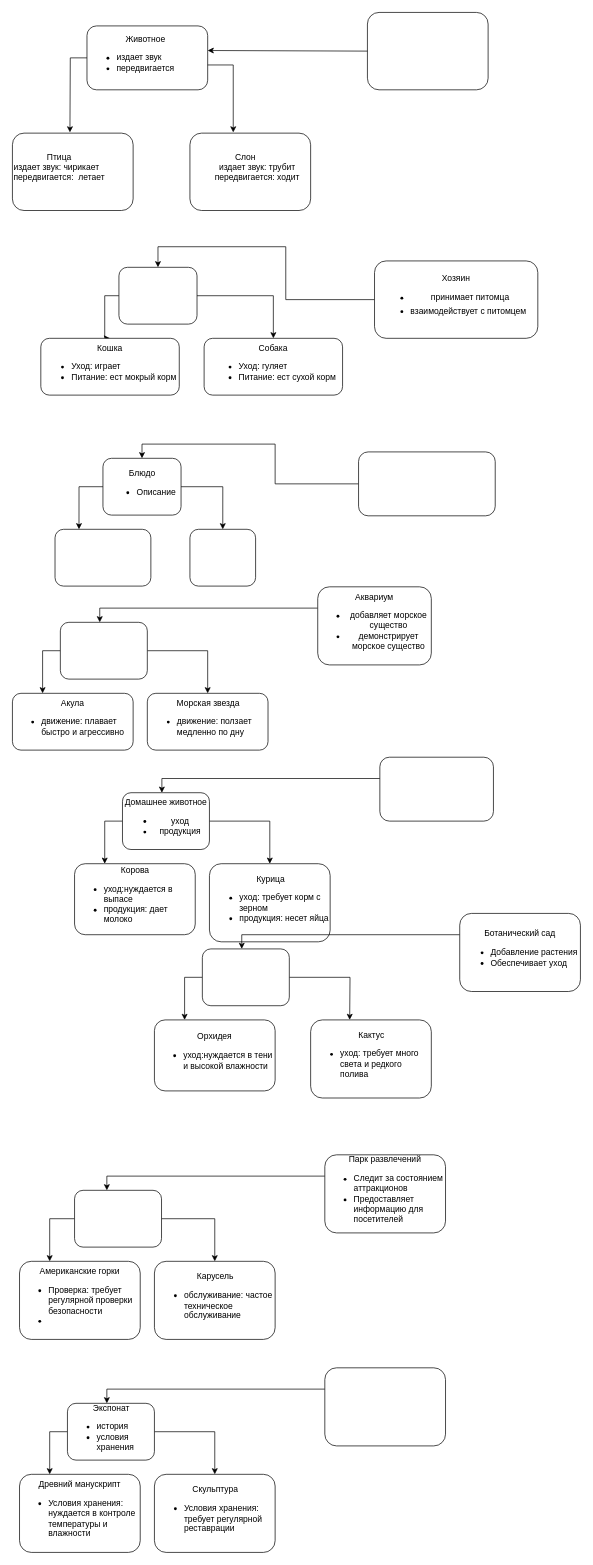
Image size: 593x1565. Some labels were removed from this diagram. Here are the shapes that lost their labels. From the top down, the centre of each, then its label:
pixel 427 51: Зоопарк Добавляет животное Показывает поведение
pixel 157 295: Питомец Уход Питание
pixel 426 483: Ресторан добавляет блюдо в меню выводит его описание
pixel 102 557: Горячее блюдо температуры
pixel 222 557: Напиток объем
pixel 103 650: Морское существо движение
pixel 436 789: Ферма Ухаживает за животными Собирает продукцию
pixel 245 977: Растения уход
pixel 118 1218: Аттракцион обслуживание проверка
pixel 385 1406: Музей Уход за экспонатом Предоставление информации посетителям
